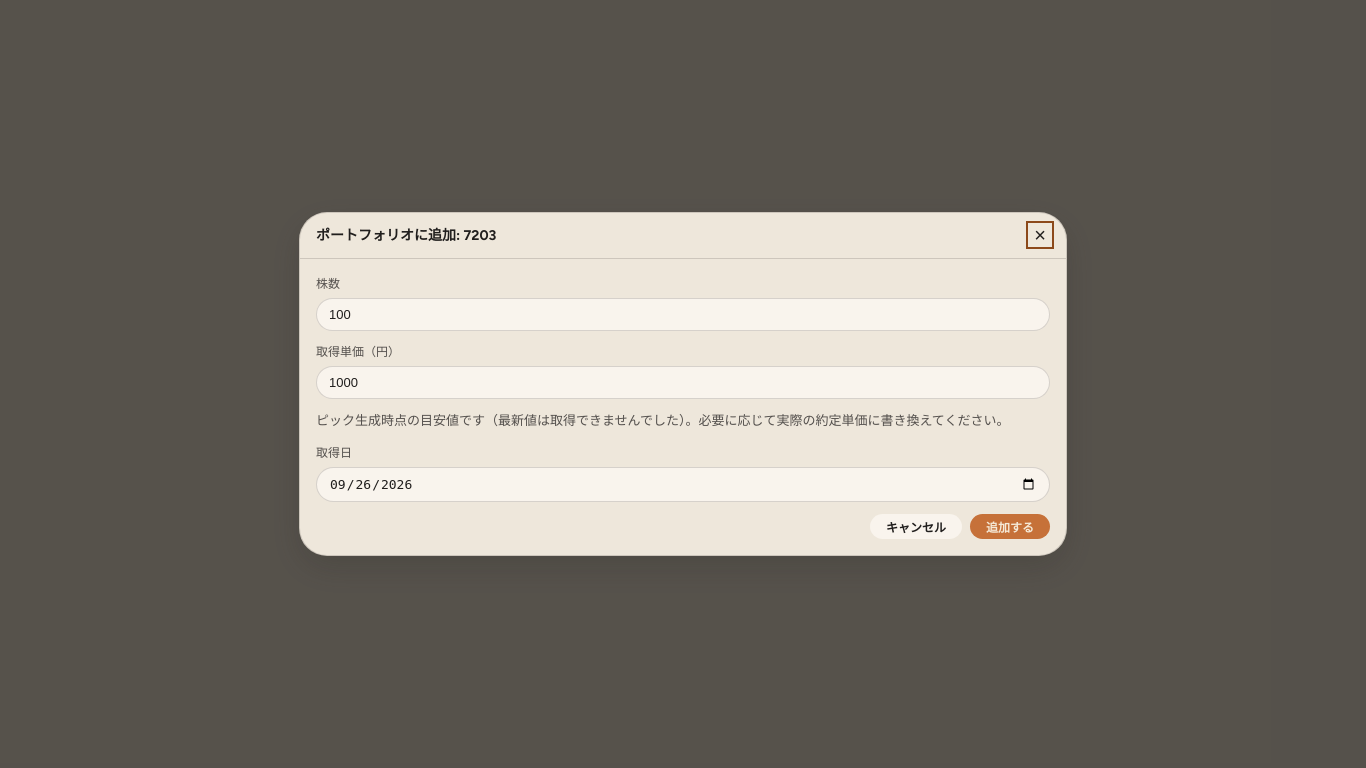
Test case: AddHoldingModal › 追加失敗時はエラーメッセージを表示する
Click the button "追加する" at (1010, 527), box [970, 514, 1050, 539]
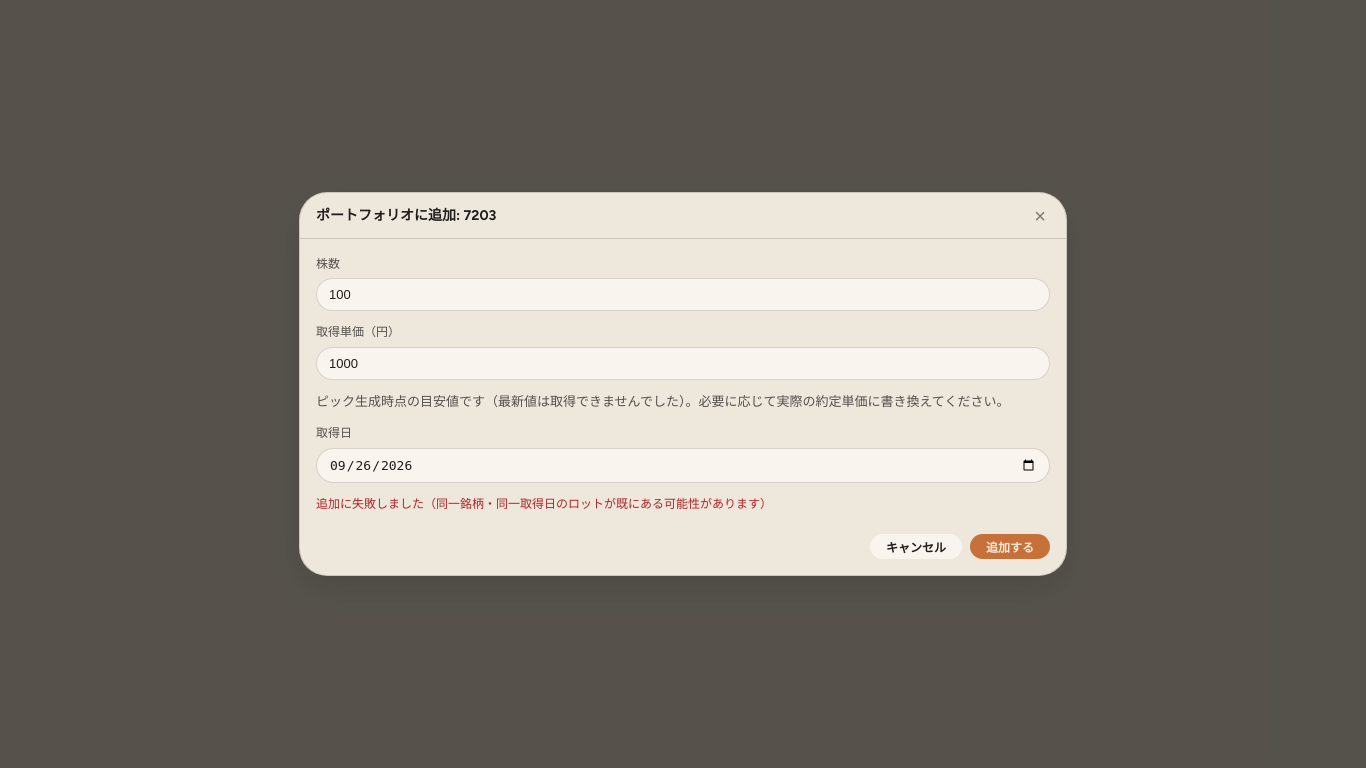
Result: the text "追加に失敗しました（同一銘柄・同一取得日のロットが既にある可能性があります）" is shown at [316, 497, 772, 511]
